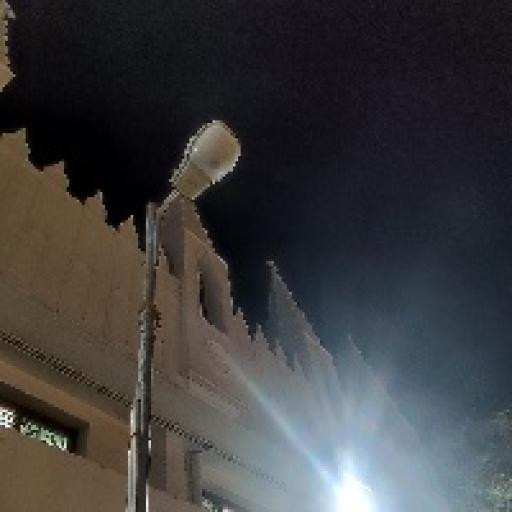Not Working: (154, 111, 252, 216)
Working: (310, 458, 379, 512)
